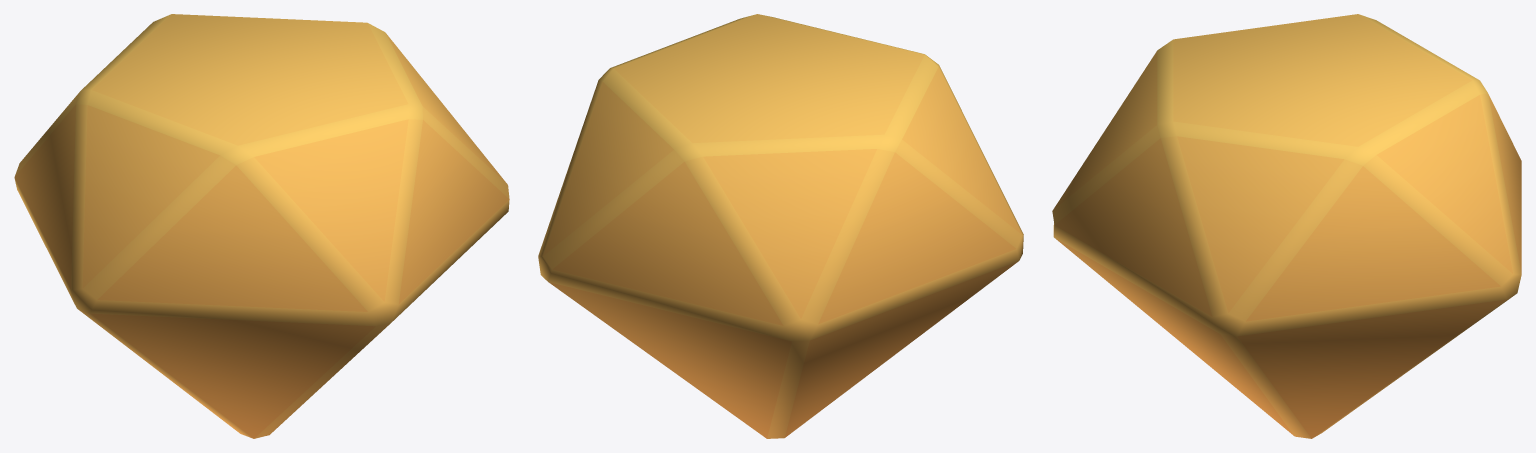
The model's file is gemme.glb.
The picture shows the model from 3 angles, left to right: view 1: azimuth 30°, elevation 25°; view 2: azimuth 150°, elevation 25°; view 3: azimuth 270°, elevation 25°; orthographic projection.
Visible parts, largest first — view 1: diamond_yellow; view 2: diamond_yellow; view 3: diamond_yellow.
Part boxes in pixels (bbox=[...]): diamond_yellow: bbox=[14, 14, 509, 438]; diamond_yellow: bbox=[538, 14, 1023, 438]; diamond_yellow: bbox=[1052, 14, 1521, 438].
Bounding box in the file's own units: 1.08 × 0.8522 × 1.03.
1 material, 1 textured.
